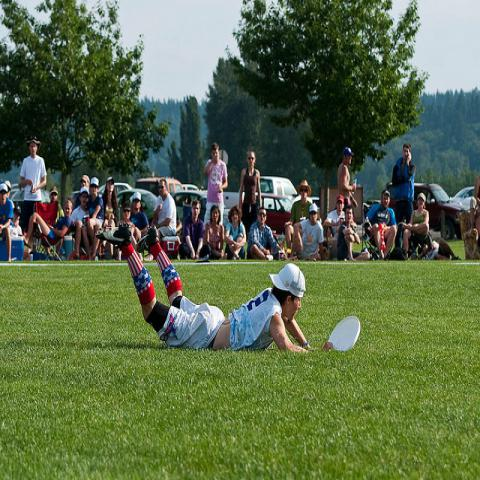car: (416, 181, 468, 243), (261, 193, 300, 235), (115, 187, 157, 219), (172, 191, 204, 220), (259, 176, 299, 196), (452, 185, 474, 212), (98, 183, 132, 195), (11, 188, 25, 214), (68, 191, 80, 204), (181, 184, 200, 192)
truck: (134, 176, 184, 198), (260, 176, 297, 196)
